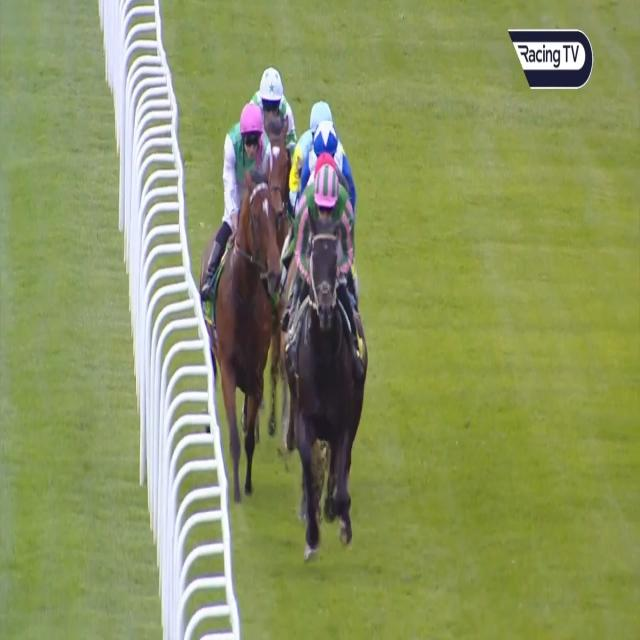horses-racing: (276, 171, 366, 533), (210, 102, 266, 464), (246, 65, 294, 166), (300, 124, 359, 181), (301, 92, 333, 136), (306, 145, 340, 178)
